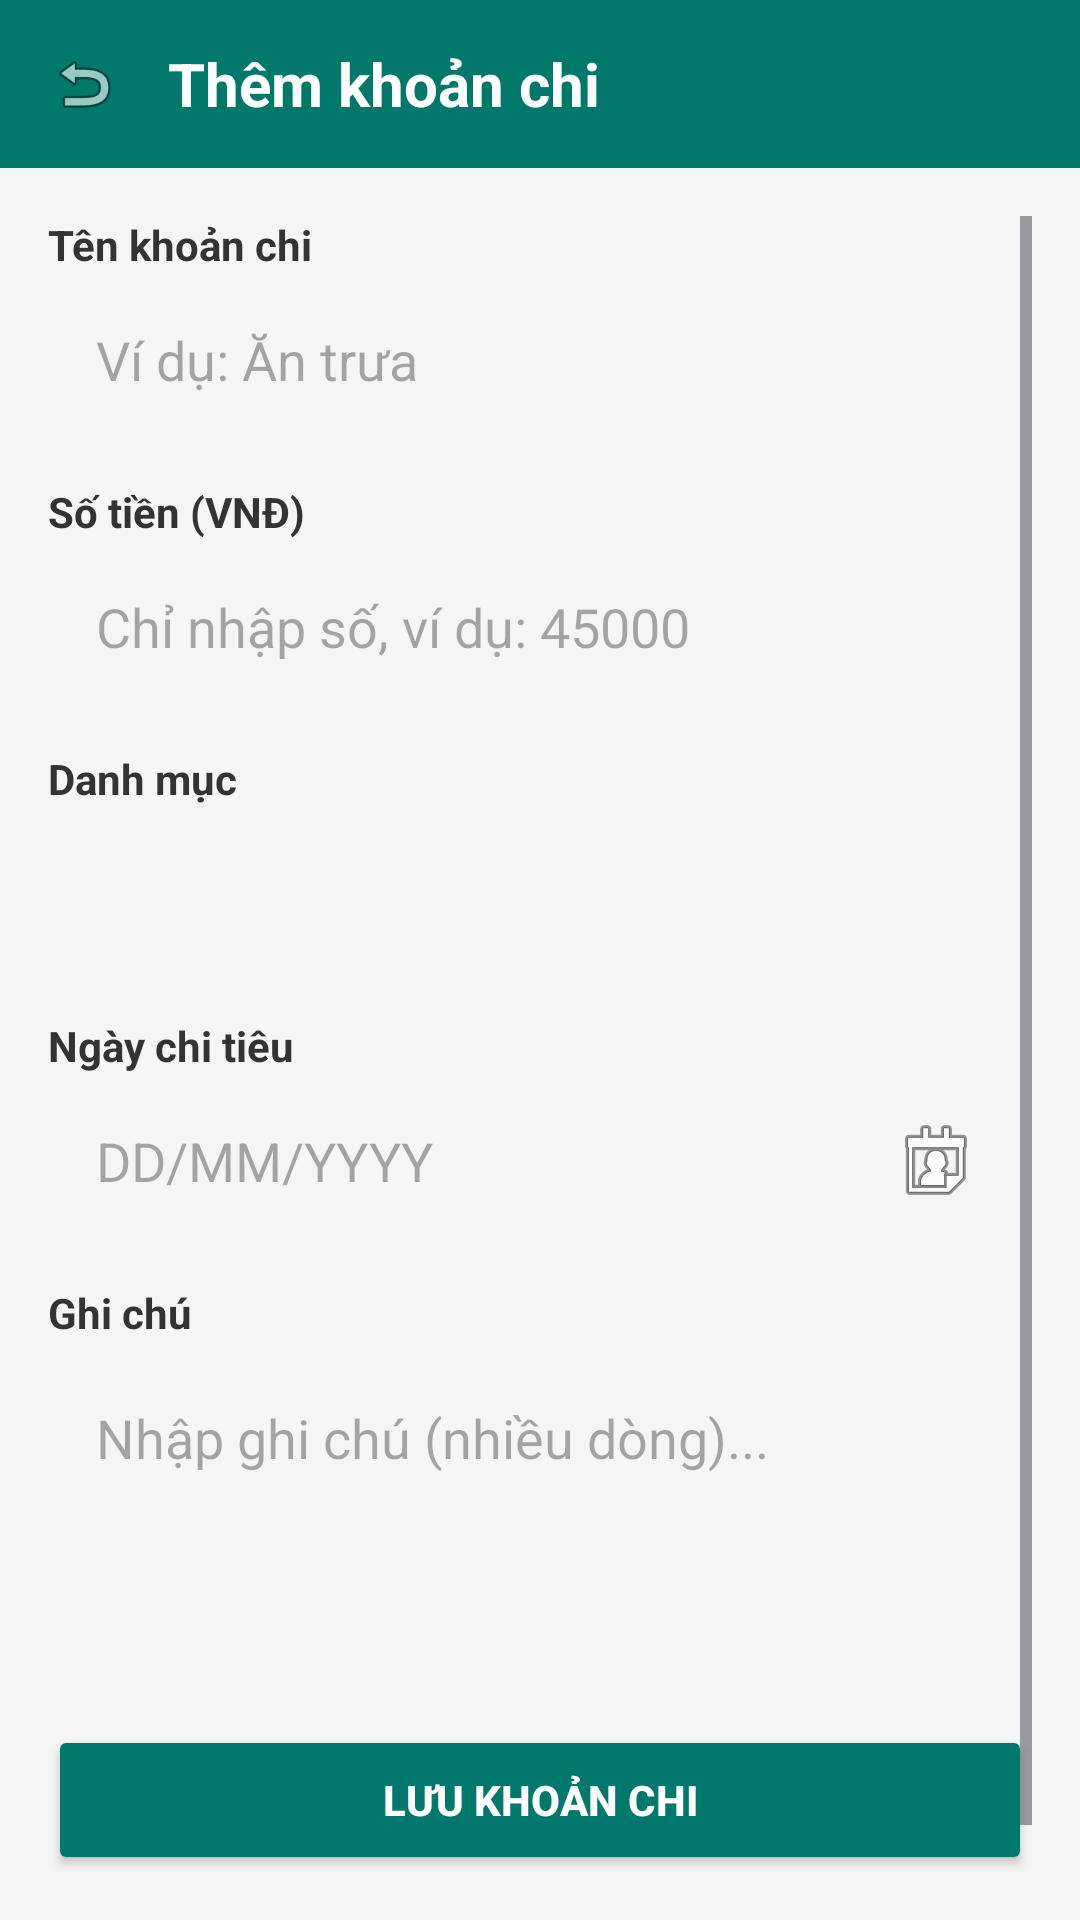

Screen size 1080w x 1920h. Icon name, then its box in pixels as bbox(x1, y1, x2, y2):
Quay lại: bbox(59, 61, 111, 108)
